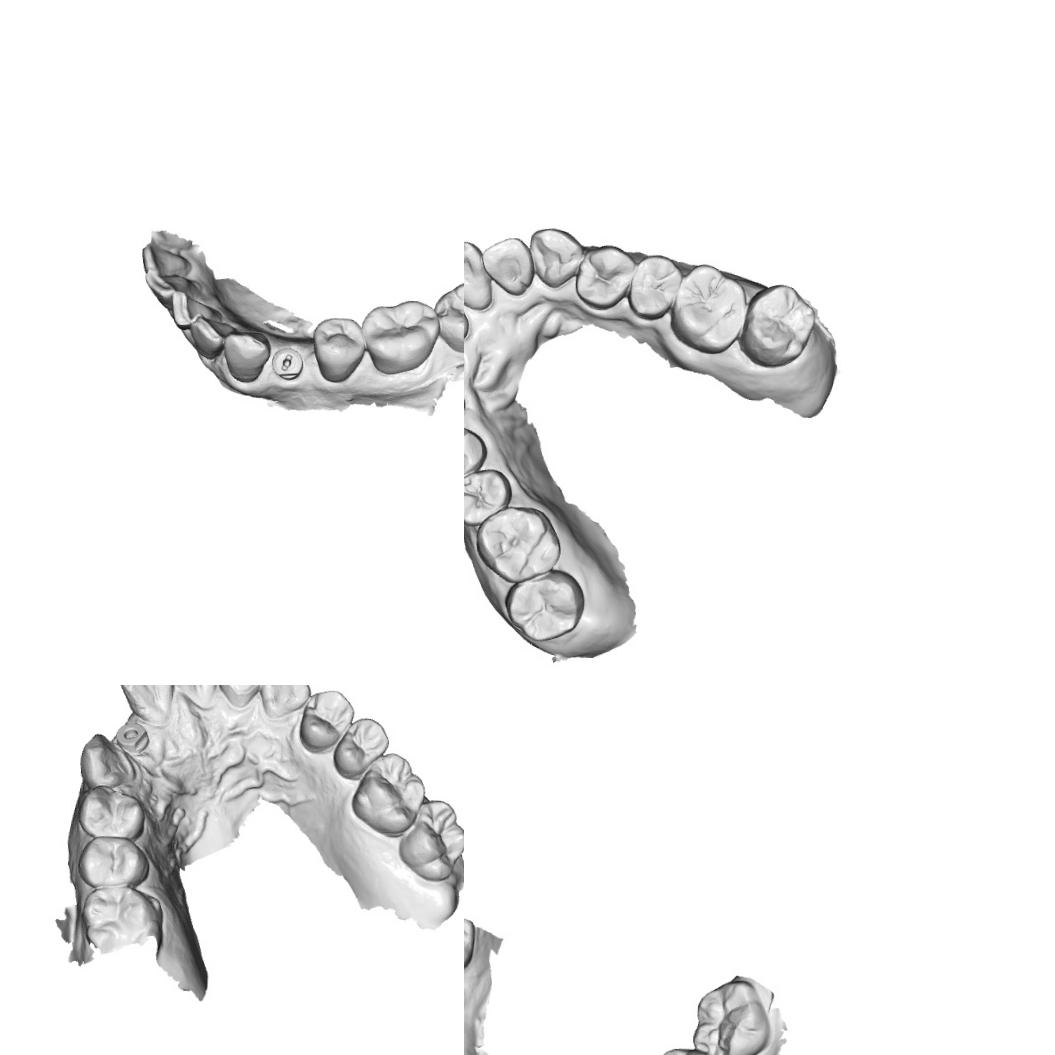canine: (527, 223, 586, 289), (76, 730, 134, 790), (219, 328, 272, 384), (258, 685, 312, 720)
implant: (112, 720, 151, 756)
implant_minus: (269, 345, 304, 382)
incisor: (478, 234, 536, 297), (138, 268, 202, 309), (186, 311, 238, 361), (168, 288, 224, 334), (464, 237, 496, 312), (114, 685, 174, 725), (138, 240, 192, 278), (162, 685, 218, 711), (214, 685, 267, 709)
molar: (667, 261, 749, 358), (472, 503, 563, 586), (736, 280, 818, 372), (348, 748, 429, 836), (358, 295, 442, 378), (502, 564, 586, 644), (690, 977, 772, 1055), (394, 796, 464, 884), (80, 882, 164, 954), (430, 278, 464, 356)
premolar: (572, 243, 636, 312), (74, 834, 151, 891), (624, 252, 684, 322), (75, 783, 147, 841), (309, 314, 367, 384), (330, 714, 390, 779), (296, 687, 356, 751), (464, 465, 513, 528), (464, 424, 489, 491)
